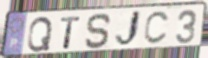3: (175, 9, 198, 45)
C: (143, 10, 172, 46)
J: (114, 9, 143, 50)
Q: (26, 16, 54, 54)
S: (84, 13, 113, 50)
T: (59, 15, 82, 50)
